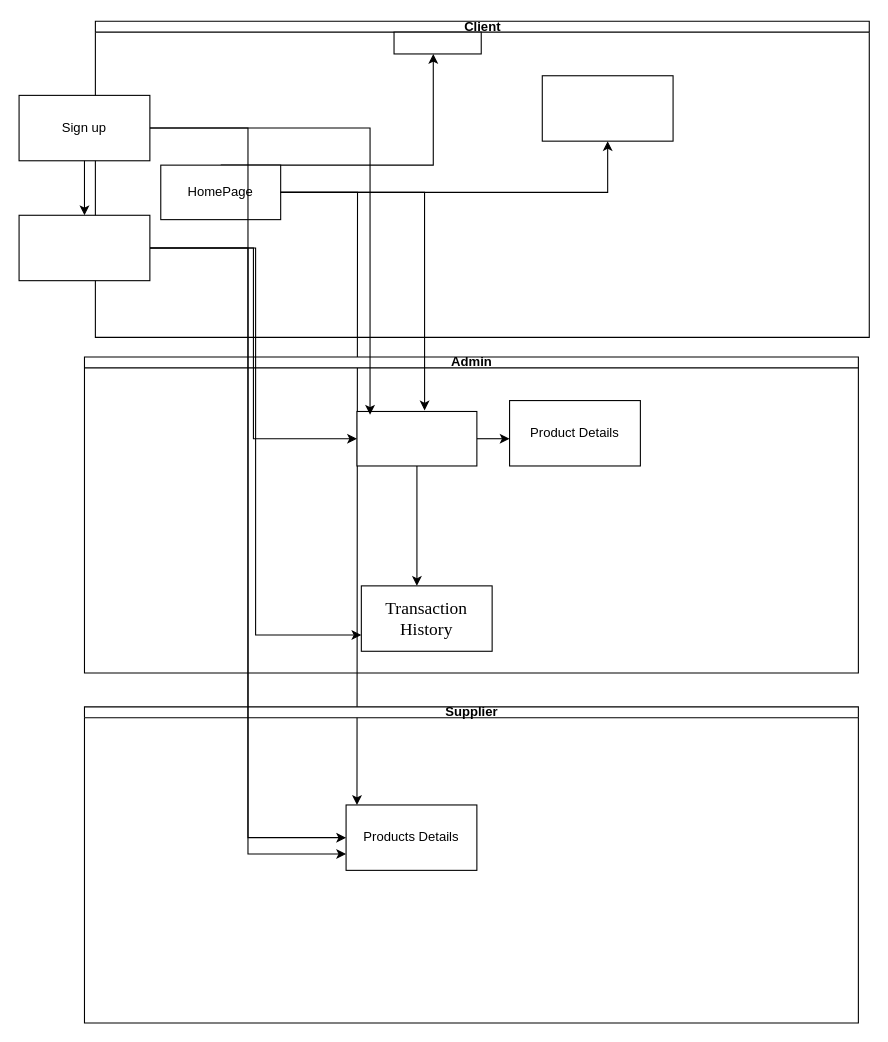
Some shapes in this 888 by 1042 pixel diagram are drawn without their labels. Each missing label, with the centre of its shape:
Cart page: the point at 607,108
Clients Details: the point at 416,438
Login: the point at 84,247
T History: the point at 437,42
